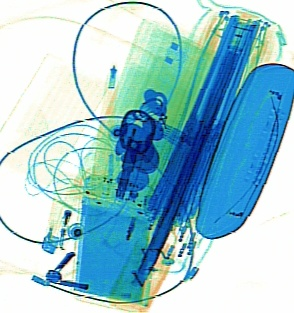lighter: (40, 185, 80, 254)
